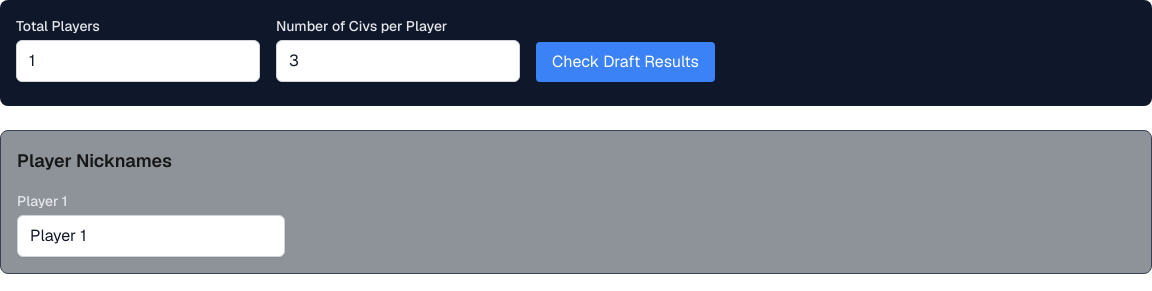
Test: Players › should add player name inputs when players number increases
Replace the text in the number field labelled "Total Players" with "3" at (138, 61), box x1=16 y1=40 x2=260 y2=82
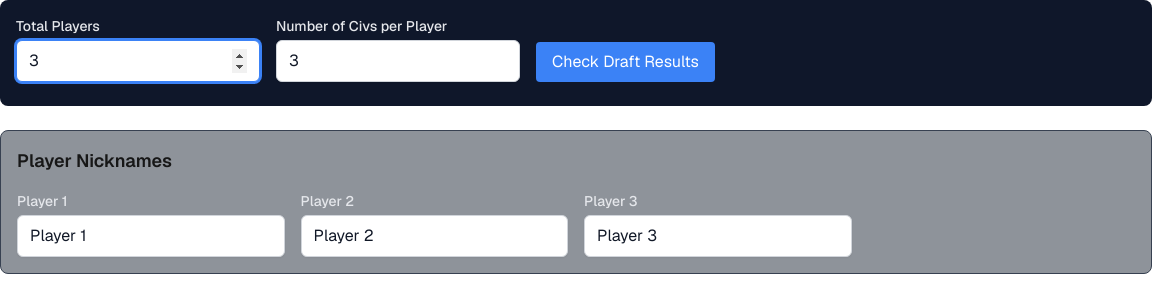
Expected: the field labelled "Player 1" is shown, x1=17 y1=215 x2=284 y2=257
Expected: the field labelled "Player 2" is shown, x1=300 y1=215 x2=568 y2=257
Expected: the field labelled "Player 3" is shown, x1=584 y1=215 x2=852 y2=257
